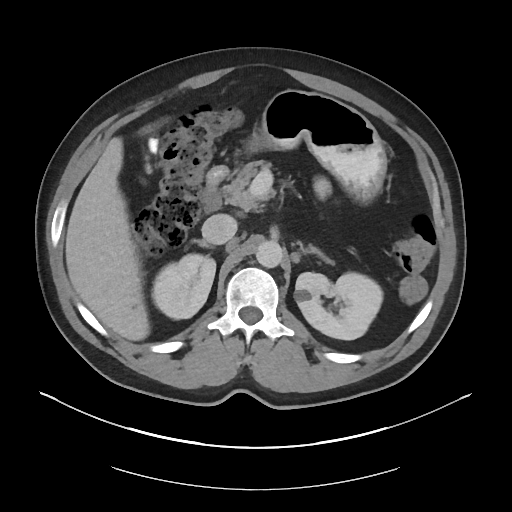Lesion: (294, 288, 314, 304)
